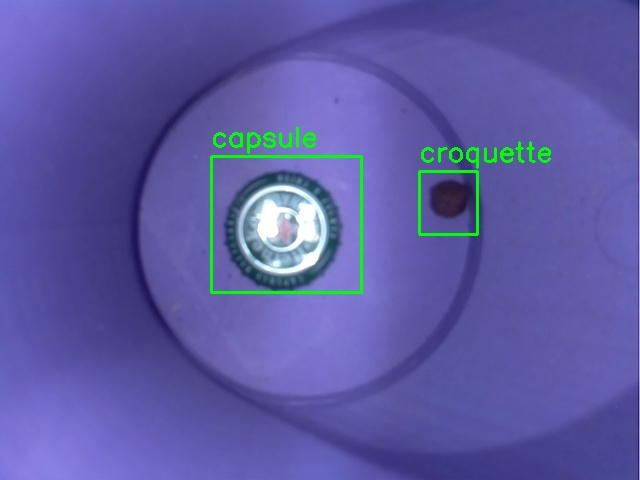capsule: (211, 156, 361, 292)
croquette: (419, 171, 477, 234)
